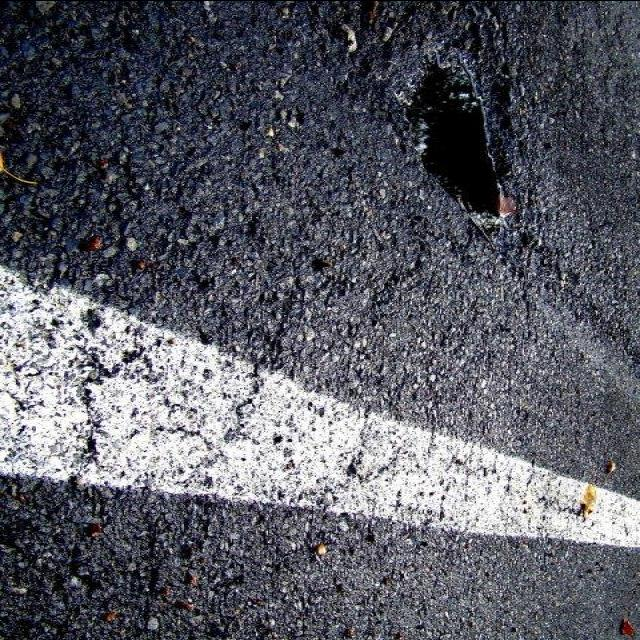jalan retak: (525, 6, 635, 202), (512, 226, 636, 373), (234, 258, 308, 438), (520, 473, 608, 520), (440, 445, 502, 484)
lubang: (399, 36, 529, 243)
